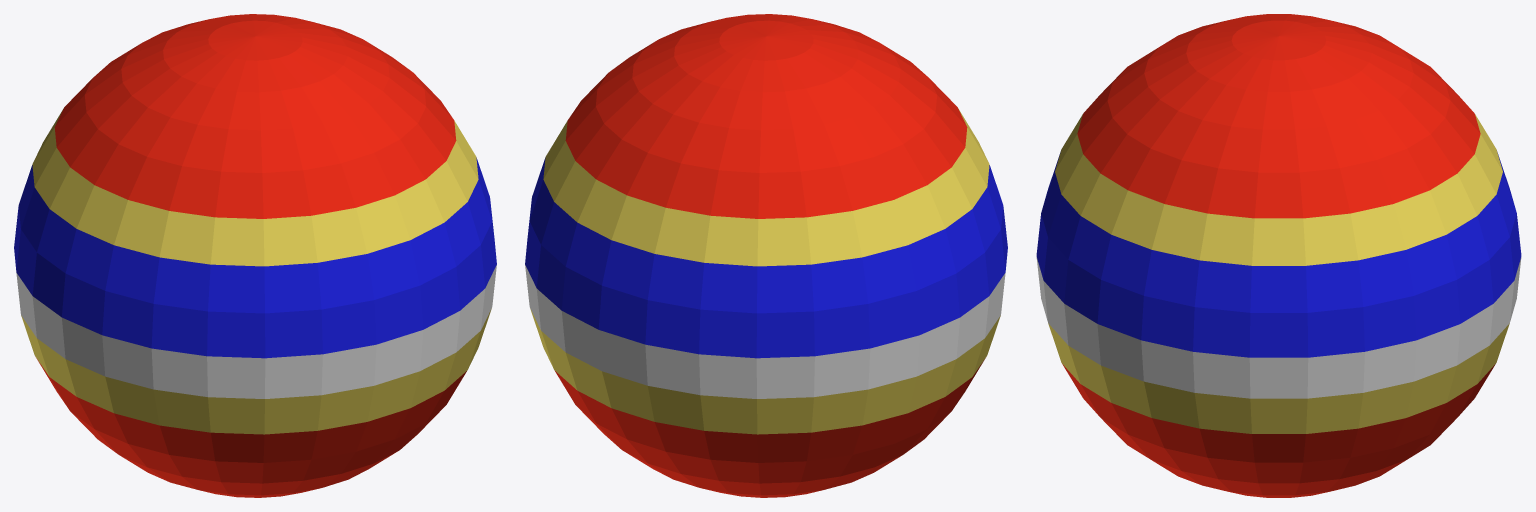
File: Ball2.fbx
The picture shows the model from 3 angles, left to right: view 1: azimuth 30°, elevation 25°; view 2: azimuth 150°, elevation 25°; view 3: azimuth 270°, elevation 25°; orthographic projection.
Parts seen in each view (by area): view 1: Sphere; view 2: Sphere; view 3: Sphere.
Part boxes in pixels (x1,y1,x2,y2): Sphere: (14,14,496,497); Sphere: (525,14,1007,497); Sphere: (1036,14,1521,497).
Bounding box in the file's own units: 199 × 200 × 200.
